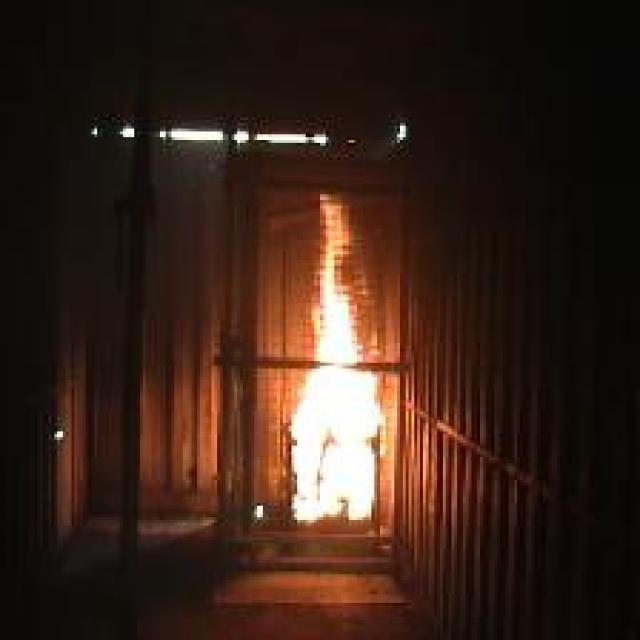Fire: (288, 191, 386, 520)
